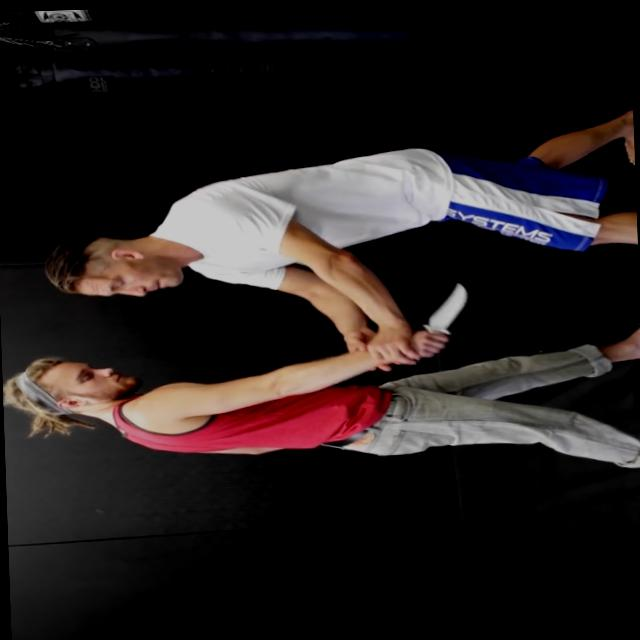knife: (407, 276, 480, 364)
